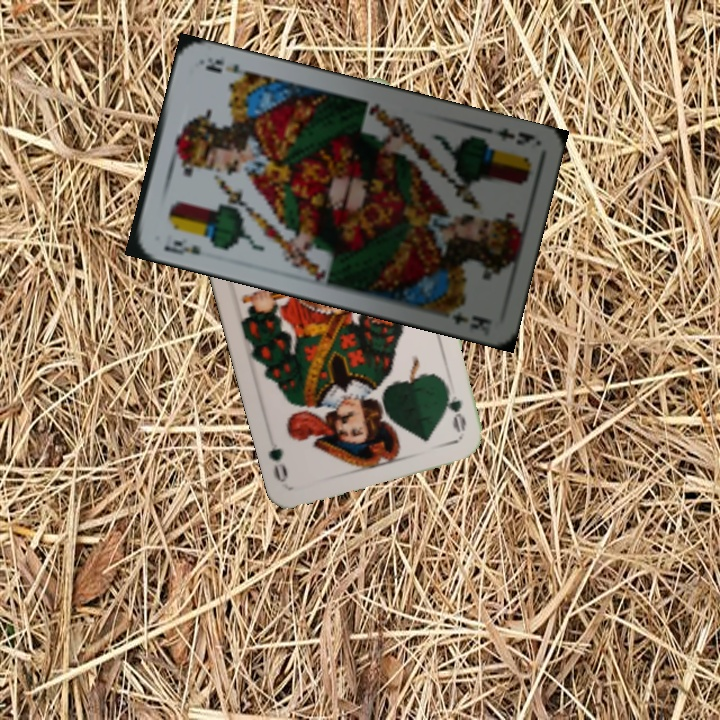EK: (480, 122, 537, 148), (160, 235, 204, 258)
GO: (440, 379, 469, 436)
